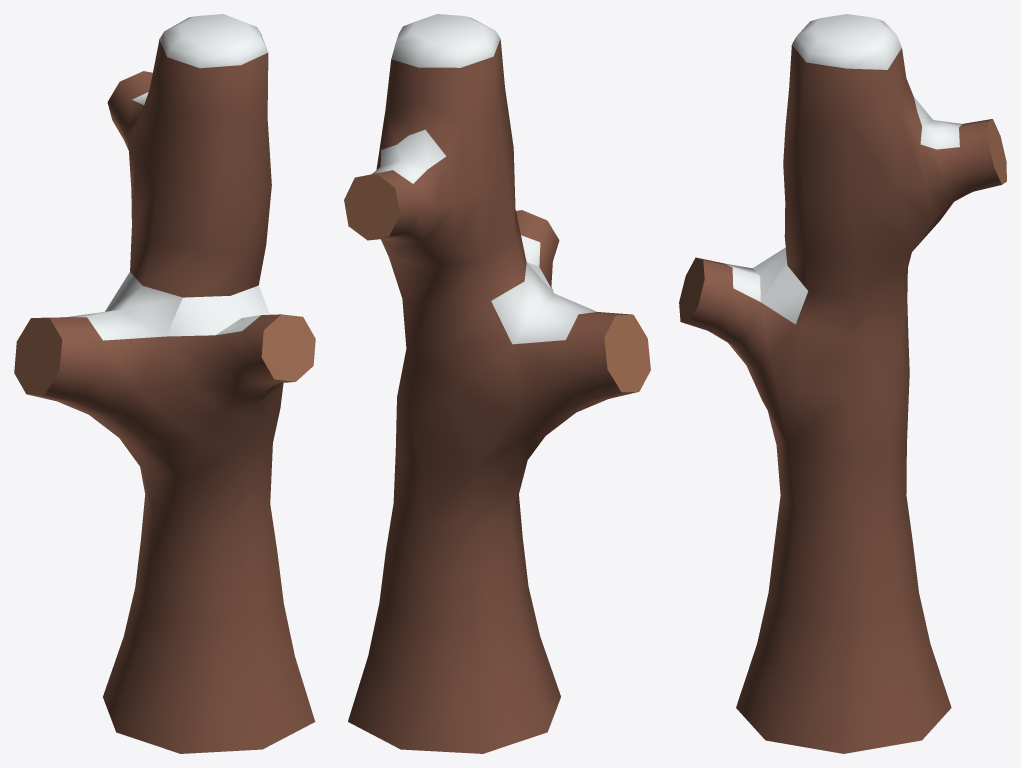
The model's file is Tree Felled .fbx.
The picture shows the model from 3 angles, left to right: view 1: azimuth 30°, elevation 25°; view 2: azimuth 150°, elevation 25°; view 3: azimuth 270°, elevation 25°; orthographic projection.
Visible parts, largest first — view 1: Tree Felled; view 2: Tree Felled; view 3: Tree Felled.
Part boxes in pixels (x1,y1,x2,y2): Tree Felled: [14, 14, 315, 753]; Tree Felled: [344, 14, 650, 753]; Tree Felled: [679, 14, 1006, 753].
Size of the model in its own units: 468 by 1098 by 478.
